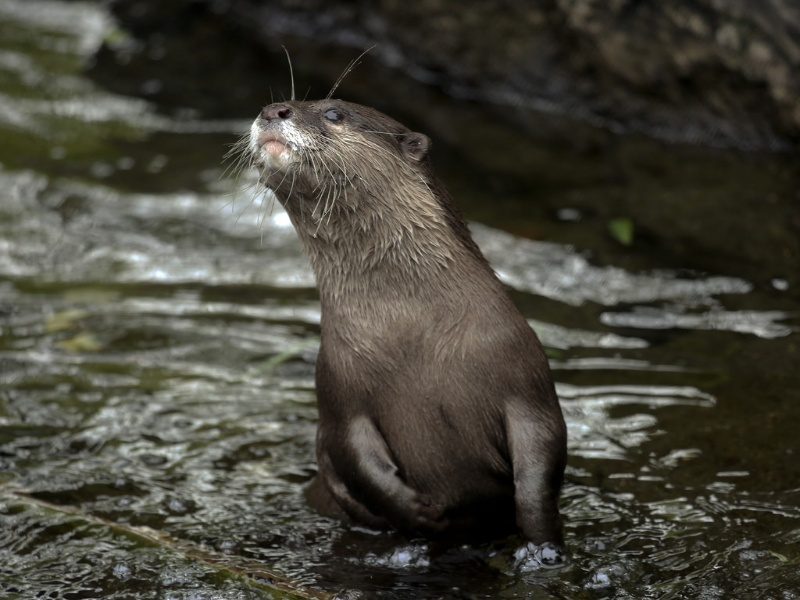minkish: (229, 97, 574, 563)
